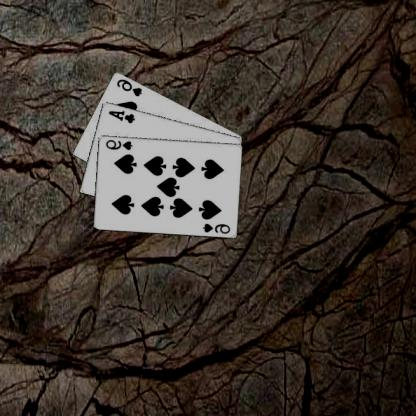6S: (116, 76, 145, 98)
9S: (202, 220, 233, 235), (104, 137, 135, 151)
AC: (108, 108, 138, 124)
